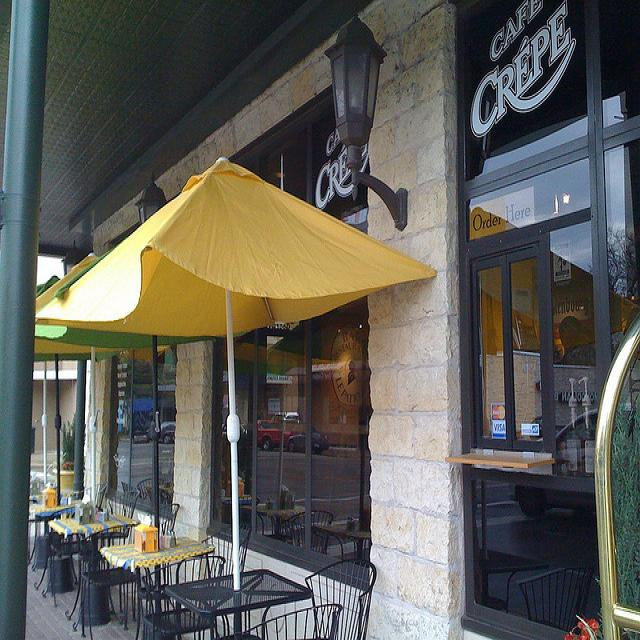Vehicle: (257, 420, 302, 453), (160, 421, 176, 443)
